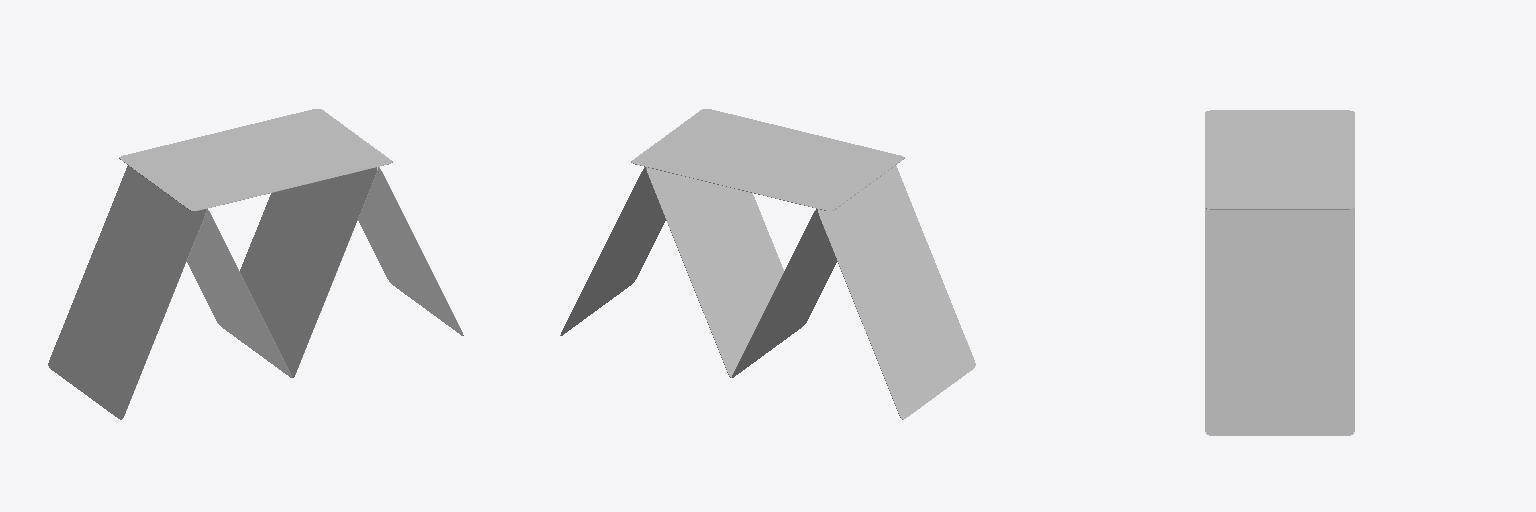
File: playing_cards.obj
The picture shows the model from 3 angles: view 1: azimuth 30°, elevation 25°; view 2: azimuth 150°, elevation 25°; view 3: azimuth 270°, elevation 25°; orthographic projection.
Visible parts, largest first — view 1: PlayingCard.003_Cube.009, PlayingCard.005_Cube.007, PlayingCard.002_Cube.008, PlayingCard.004_Cube.010, PlayingCard.001_Cube.003; view 2: PlayingCard.003_Cube.009, PlayingCard.005_Cube.007, PlayingCard.002_Cube.008, PlayingCard.004_Cube.010, PlayingCard.001_Cube.003; view 3: PlayingCard.004_Cube.010, PlayingCard.005_Cube.007.
Boxes of the visible parts, box(x1,y1,x2,y2) form: PlayingCard.003_Cube.009: box(48, 166, 205, 419); PlayingCard.005_Cube.007: box(119, 109, 392, 210); PlayingCard.002_Cube.008: box(240, 167, 377, 377); PlayingCard.004_Cube.010: box(358, 167, 463, 335); PlayingCard.001_Cube.003: box(187, 209, 291, 377); PlayingCard.003_Cube.009: box(818, 166, 975, 419); PlayingCard.005_Cube.007: box(631, 109, 904, 210); PlayingCard.002_Cube.008: box(646, 167, 783, 377); PlayingCard.004_Cube.010: box(560, 167, 665, 335); PlayingCard.001_Cube.003: box(732, 209, 836, 377); PlayingCard.004_Cube.010: box(1205, 208, 1354, 435); PlayingCard.005_Cube.007: box(1205, 110, 1354, 209).
Size of the model in its own units: 5.94 by 3.18 by 2.25.